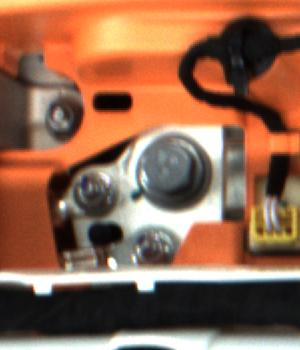nut_b: (132, 134, 213, 217)
